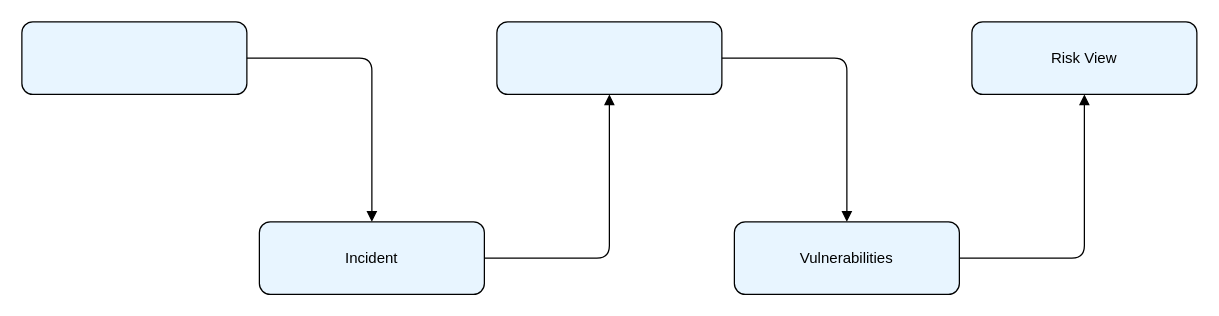
Some shapes in this 1219 by 316 pixel diagram are drawn without their labels. The box of each missing label's shape, as (x1, y1, x2, y2) in pixels:
Asset criticality: (496, 21, 722, 94)
Parsed event: (21, 21, 247, 94)
